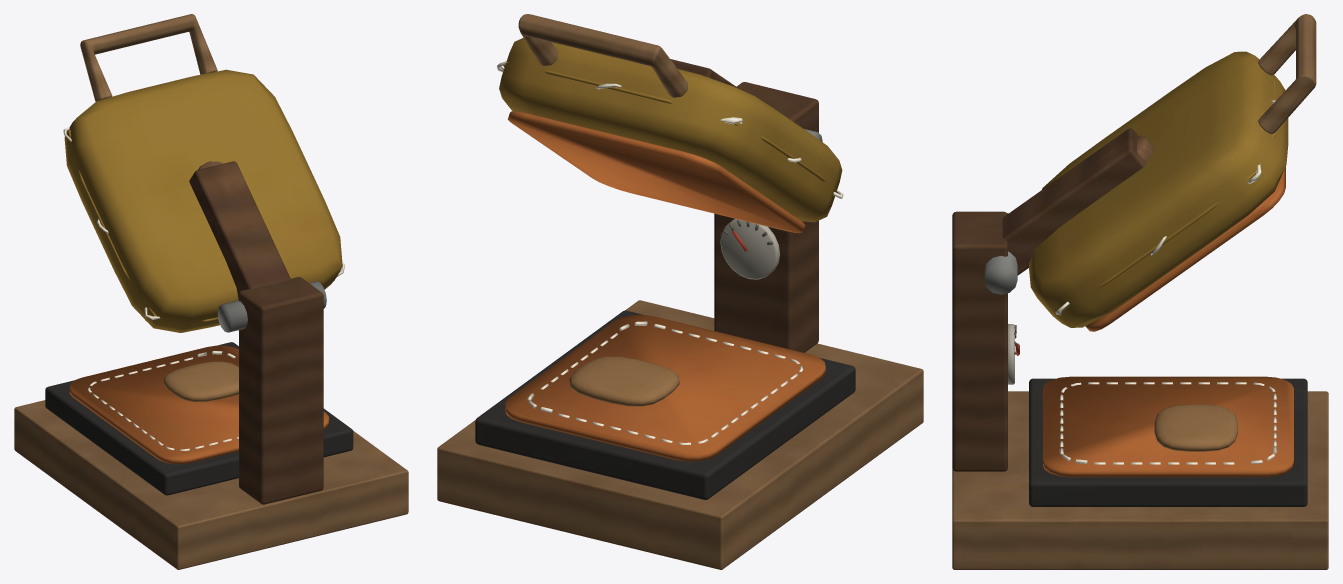
Rendered from heat_press_mustard.glb.
3 views of the same model, side by side, from view 1: azimuth 30°, elevation 25°; view 2: azimuth 150°, elevation 25°; view 3: azimuth 270°, elevation 25° (orthographic). The views are drawn at different scales.
Visible parts, largest first — view 1: heat_press_mustard_felt_mustard, heat_press_mustard_wood, heat_press_mustard_wood_dark, heat_press_mustard_felt_heat, heat_press_mustard_felt_charcoal, heat_press_mustard_felt_tan, heat_press_mustard_felt_tin, heat_press_mustard_thread; view 2: heat_press_mustard_wood, heat_press_mustard_felt_heat, heat_press_mustard_felt_mustard, heat_press_mustard_felt_charcoal, heat_press_mustard_wood_dark, heat_press_mustard_felt_tan, heat_press_mustard_felt_ivory, heat_press_mustard_thread; view 3: heat_press_mustard_felt_mustard, heat_press_mustard_wood, heat_press_mustard_felt_heat, heat_press_mustard_wood_dark, heat_press_mustard_felt_charcoal, heat_press_mustard_felt_tan, heat_press_mustard_thread, heat_press_mustard_felt_tin.
Part boxes in pixels (left/top/right/bottom): heat_press_mustard_felt_mustard: left=64, top=69, right=342, bottom=332; heat_press_mustard_wood: left=14, top=14, right=408, bottom=569; heat_press_mustard_wood_dark: left=189, top=161, right=323, bottom=504; heat_press_mustard_felt_heat: left=69, top=320, right=328, bottom=464; heat_press_mustard_felt_charcoal: left=45, top=342, right=353, bottom=495; heat_press_mustard_felt_tan: left=163, top=361, right=238, bottom=401; heat_press_mustard_felt_tin: left=217, top=281, right=326, bottom=332; heat_press_mustard_thread: left=63, top=127, right=344, bottom=450; heat_press_mustard_wood: left=437, top=14, right=923, bottom=569; heat_press_mustard_felt_heat: left=505, top=111, right=825, bottom=461; heat_press_mustard_felt_mustard: left=499, top=38, right=842, bottom=222; heat_press_mustard_felt_charcoal: left=475, top=310, right=855, bottom=499; heat_press_mustard_wood_dark: left=670, top=59, right=818, bottom=352; heat_press_mustard_felt_tan: left=569, top=356, right=679, bottom=406; heat_press_mustard_felt_ivory: left=720, top=218, right=779, bottom=279; heat_press_mustard_thread: left=497, top=61, right=843, bottom=444; heat_press_mustard_felt_mustard: left=1029, top=51, right=1288, bottom=327; heat_press_mustard_wood: left=952, top=14, right=1328, bottom=569; heat_press_mustard_felt_heat: left=1043, top=166, right=1293, bottom=477; heat_press_mustard_wood_dark: left=952, top=128, right=1145, bottom=471; heat_press_mustard_felt_charcoal: left=1029, top=378, right=1307, bottom=506; heat_press_mustard_felt_tan: left=1154, top=404, right=1237, bottom=451; heat_press_mustard_thread: left=1055, top=100, right=1276, bottom=464; heat_press_mustard_felt_tin: left=984, top=213, right=1017, bottom=294.
Size of the model in its own units: 0.44 by 0.731 by 0.54.
Materials: 12 (9 with a texture image).
